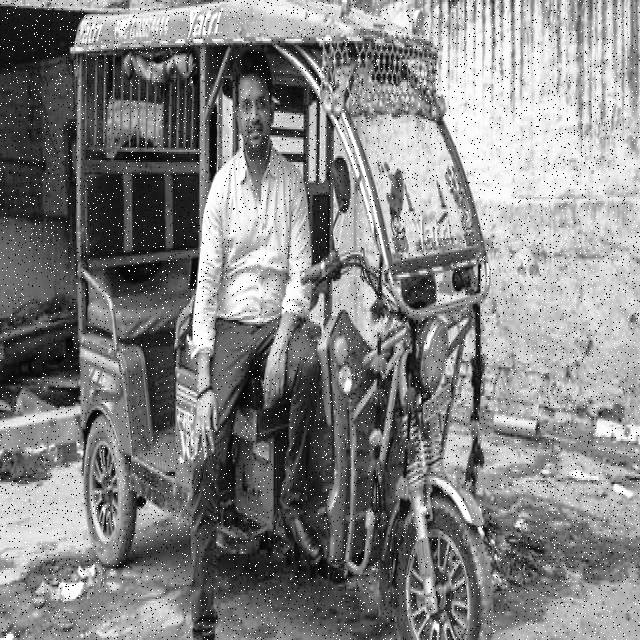Toto: (72, 4, 495, 640)
